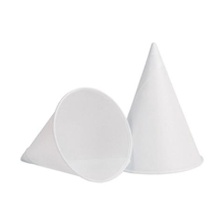paper_cup: (108, 34, 207, 179), (16, 79, 136, 186)
